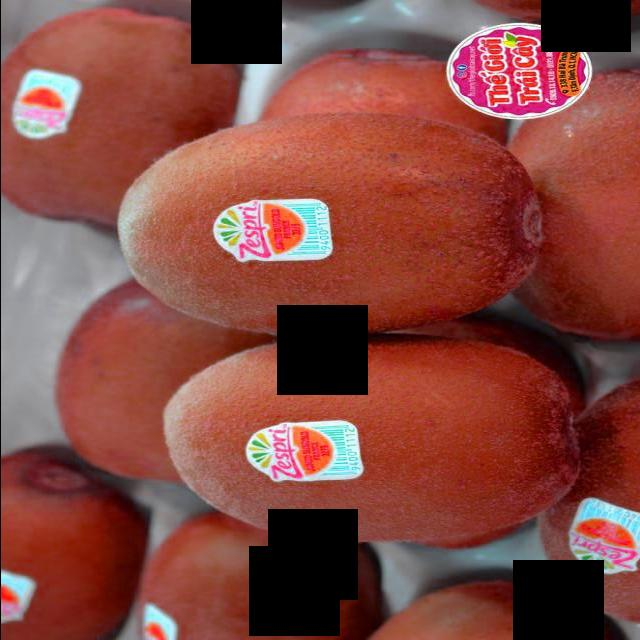kiwi: (114, 114, 544, 338), (158, 339, 585, 548), (4, 7, 240, 232), (54, 269, 284, 486), (501, 64, 640, 344), (142, 510, 377, 640), (2, 448, 153, 640), (537, 374, 640, 623)
